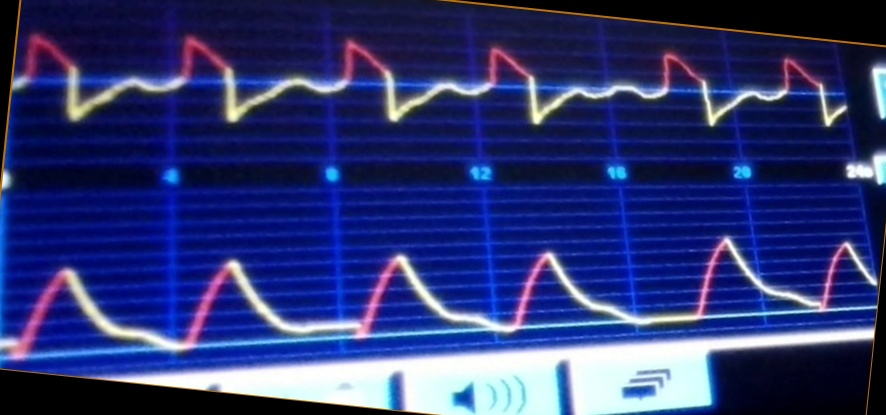Ineffective_effort Flow: (17, 28, 852, 143)
Ineffective_effort Volume: (1, 227, 875, 351)
